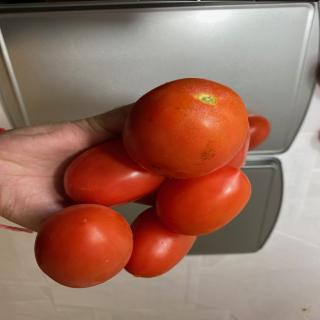Chilli: (33, 77, 269, 288)
Tomato: (122, 77, 250, 179), (34, 204, 134, 288), (63, 138, 166, 208), (155, 165, 252, 236), (124, 206, 197, 278)
